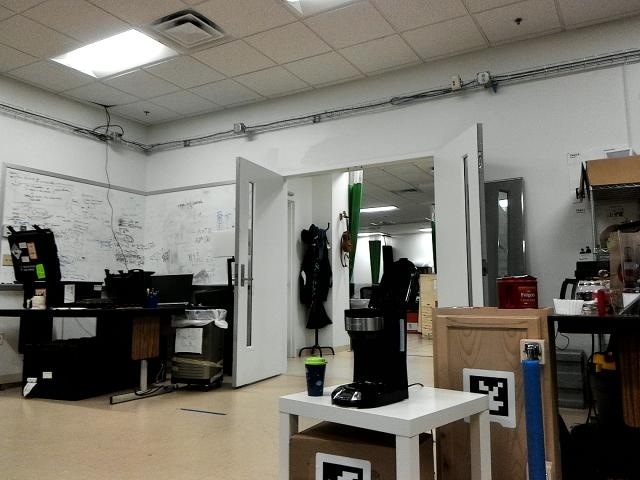noodle_handle: (521, 351, 552, 480)
useless_cup: (302, 356, 327, 399)
